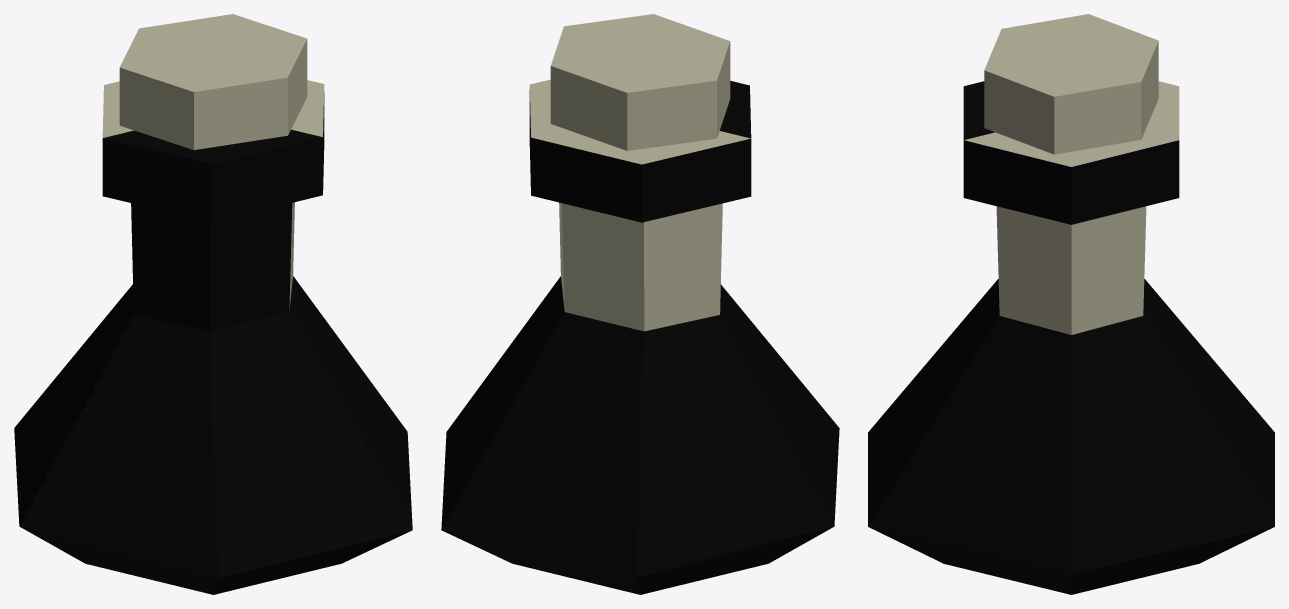
Rendered from tonic.obj.
3 renders of one model, left to right at view 1: azimuth 30°, elevation 25°; view 2: azimuth 150°, elevation 25°; view 3: azimuth 270°, elevation 25°, orthographic.
Visible parts, largest first — view 1: cylinder; view 2: cylinder; view 3: cylinder.
Part boxes in pixels (x1,y1,x2,y2): cylinder: [14, 14, 412, 594]; cylinder: [441, 14, 839, 594]; cylinder: [868, 14, 1274, 594].
Size of the model in its own units: 1.75 by 2.06 by 1.59.
Materials: 2 (2 with a texture image).
